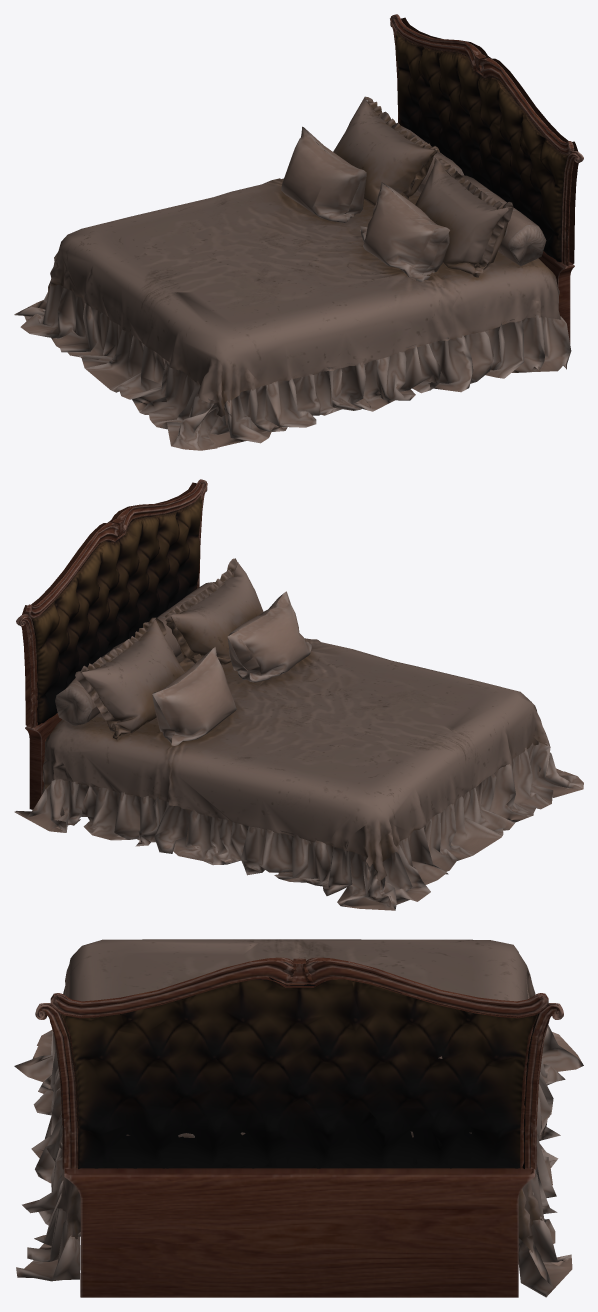
The model's file is SM_BED.fbx.
The picture shows the model from 3 angles, top to bottom: view 1: azimuth 30°, elevation 25°; view 2: azimuth 150°, elevation 25°; view 3: azimuth 270°, elevation 25°; orthographic projection. The views are drawn at different scales.
Visible parts, largest first — view 1: SM_BED_LOD0; view 2: SM_BED_LOD0; view 3: SM_BED_LOD0.
Boxes of the visible parts, x1,y1,x2,y2 form: SM_BED_LOD0: [14, 14, 583, 450]; SM_BED_LOD0: [14, 479, 583, 910]; SM_BED_LOD0: [14, 939, 583, 1297].
Size of the model in its own units: 506 by 441 by 283.
1 material, 1 textured.
